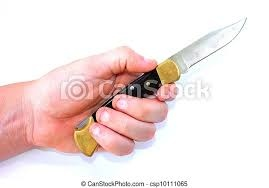knife: (74, 17, 247, 158)
